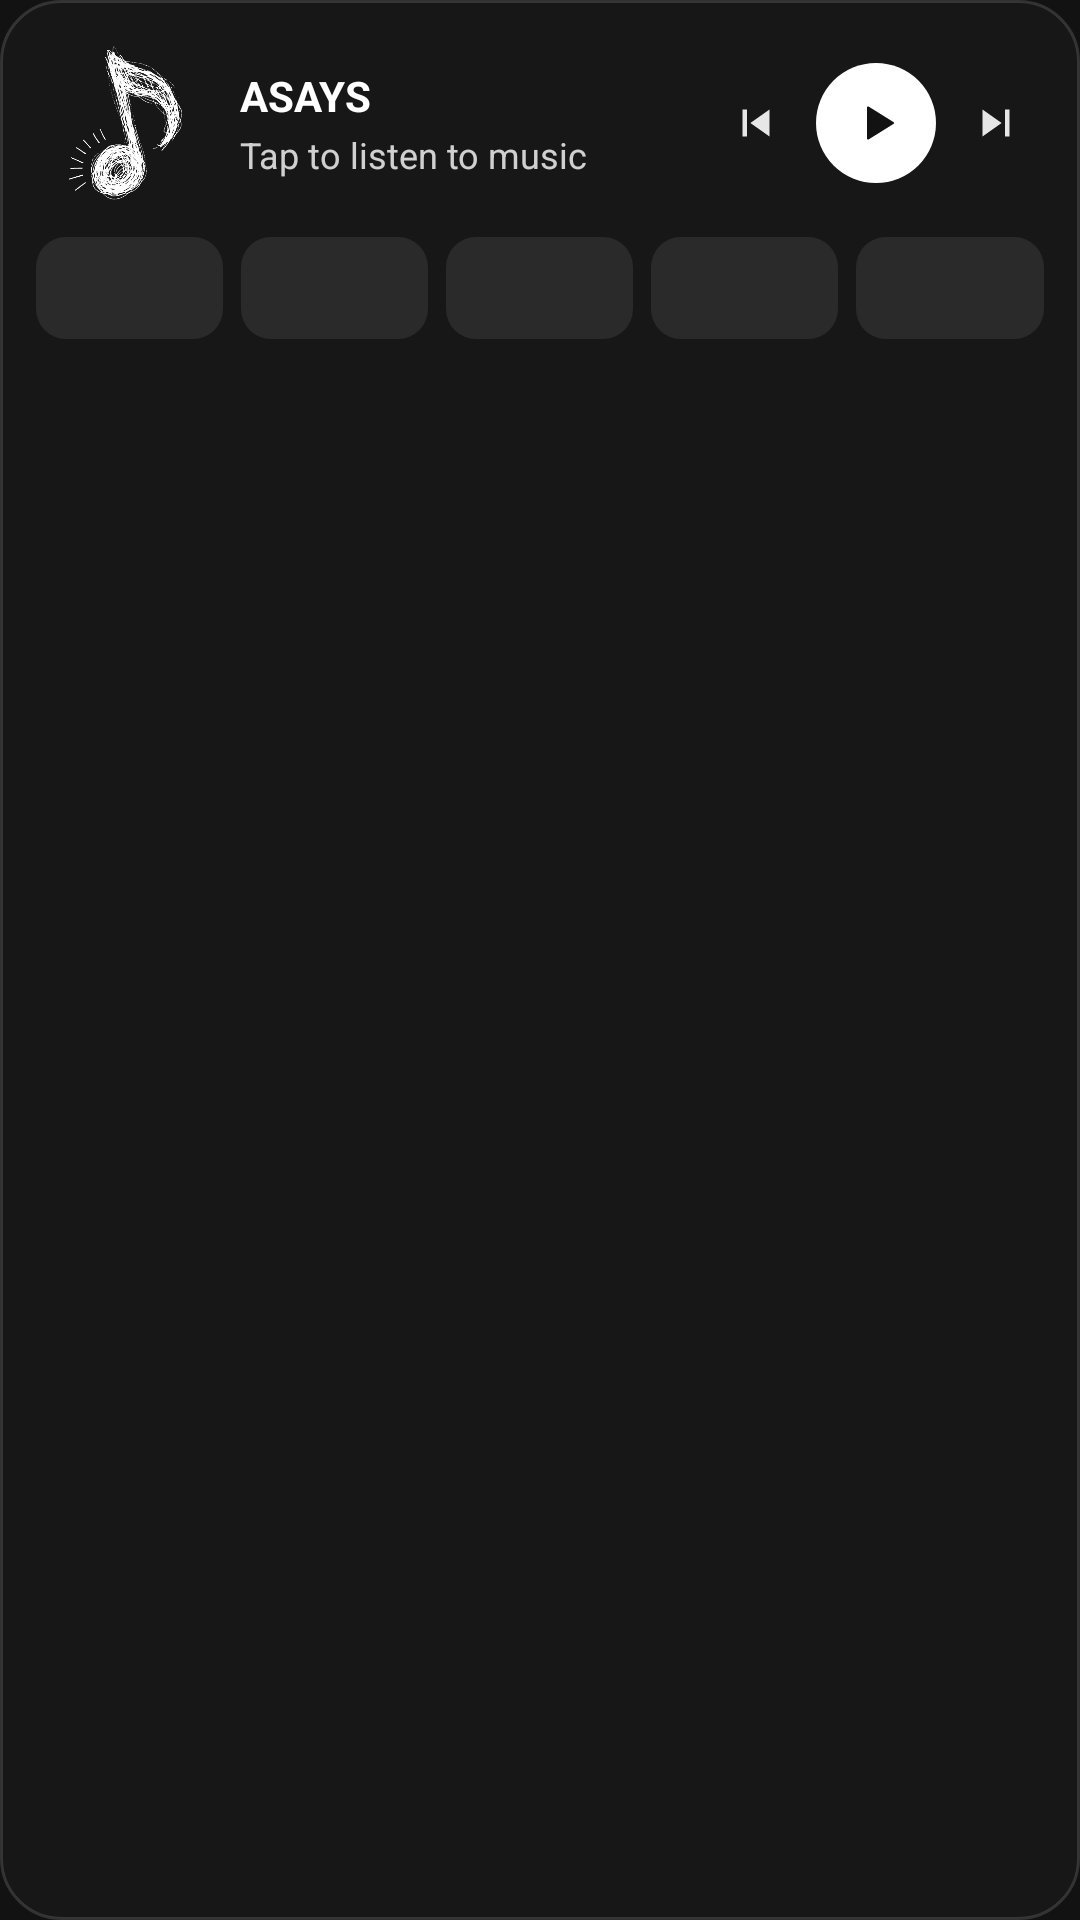

Screen size 1080 x 1920. Icon name, then its center in pixels as (x,y):
Next: (996,123)
Play: (876,123)
Previous: (756,123)
